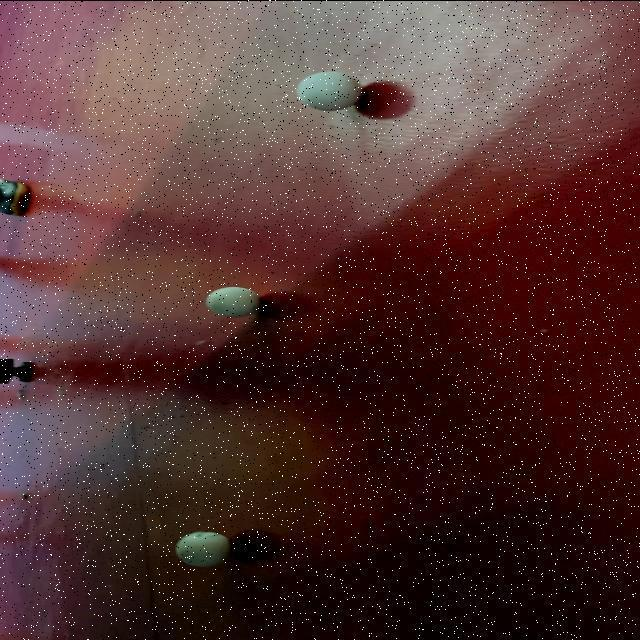ping-pong-ball: (292, 68, 366, 112), (173, 529, 236, 568), (204, 284, 264, 320)
